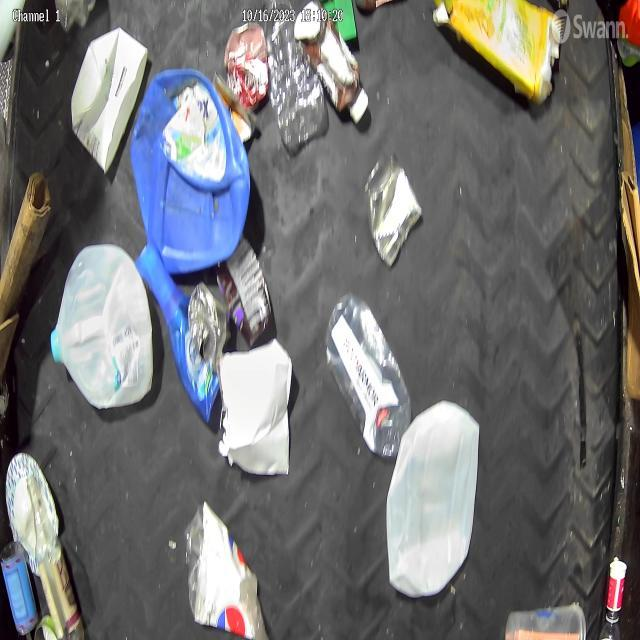can: (363, 151, 423, 269), (224, 22, 270, 112), (0, 540, 39, 634), (212, 72, 259, 144)
milk_jug: (386, 400, 480, 600), (50, 244, 154, 409)
non_white_jug: (130, 66, 251, 274), (433, 0, 562, 104)
